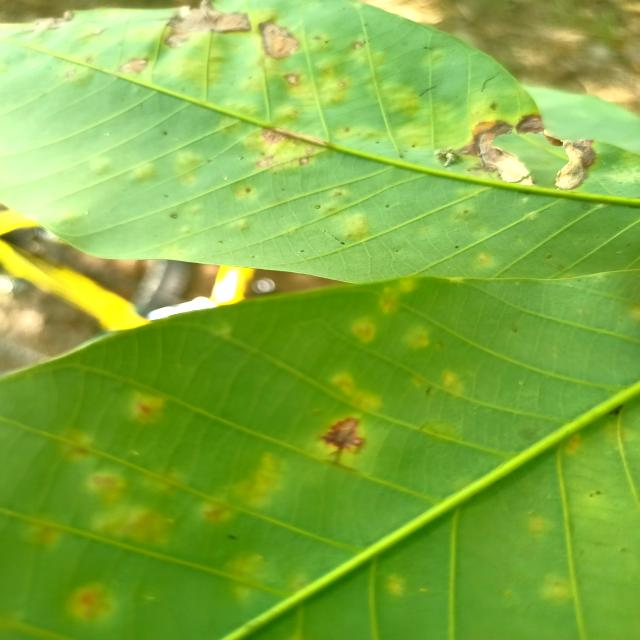Leaf-Blight: (515, 113, 596, 190), (460, 120, 535, 186), (165, 0, 253, 49), (258, 20, 300, 60), (118, 59, 148, 73), (309, 67, 310, 69)
